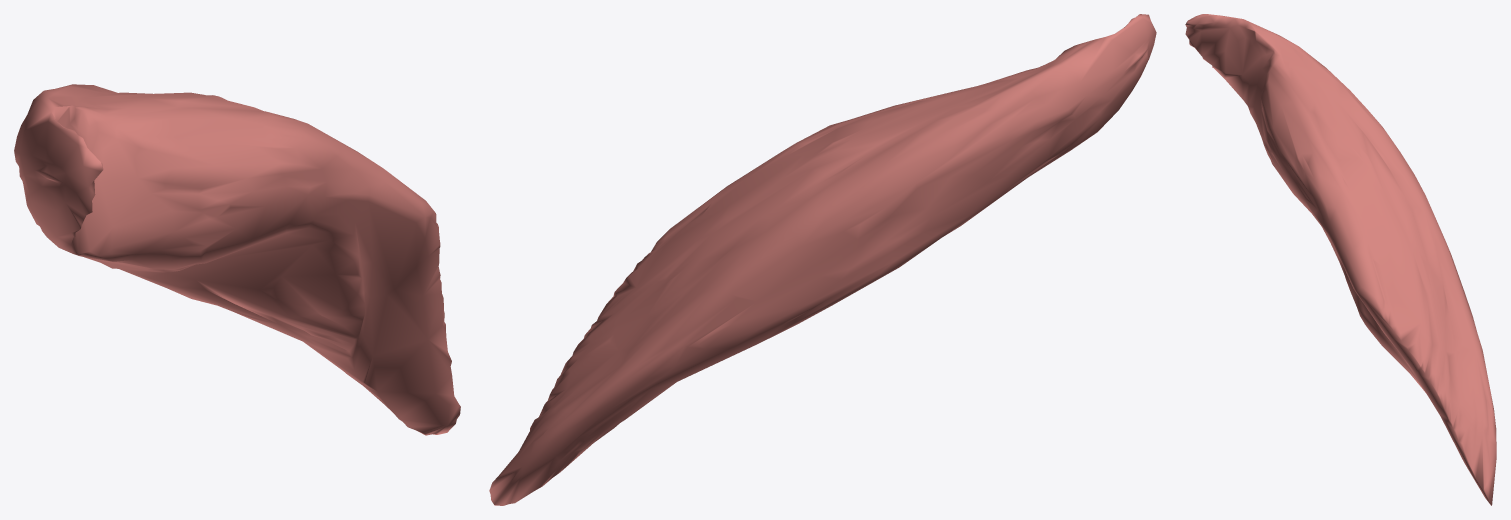
3 views of the same model, side by side, from view 1: azimuth 30°, elevation 25°; view 2: azimuth 150°, elevation 25°; view 3: azimuth 270°, elevation 25° (orthographic). The views are drawn at different scales.
Visible parts, largest first — view 1: ZA_fd5c02294b475427; view 2: ZA_fd5c02294b475427; view 3: ZA_fd5c02294b475427.
Part boxes in pixels (bbox=[...]): ZA_fd5c02294b475427: bbox=[14, 84, 460, 435]; ZA_fd5c02294b475427: bbox=[489, 14, 1156, 505]; ZA_fd5c02294b475427: bbox=[1185, 14, 1496, 505].
Bounding box in the file's own units: 0.0961 × 0.0895 × 0.0759.
